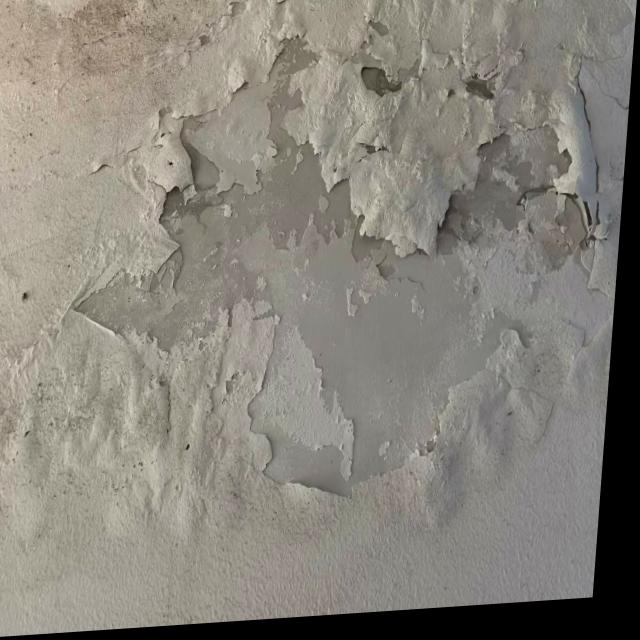spalling: (34, 19, 612, 506)
